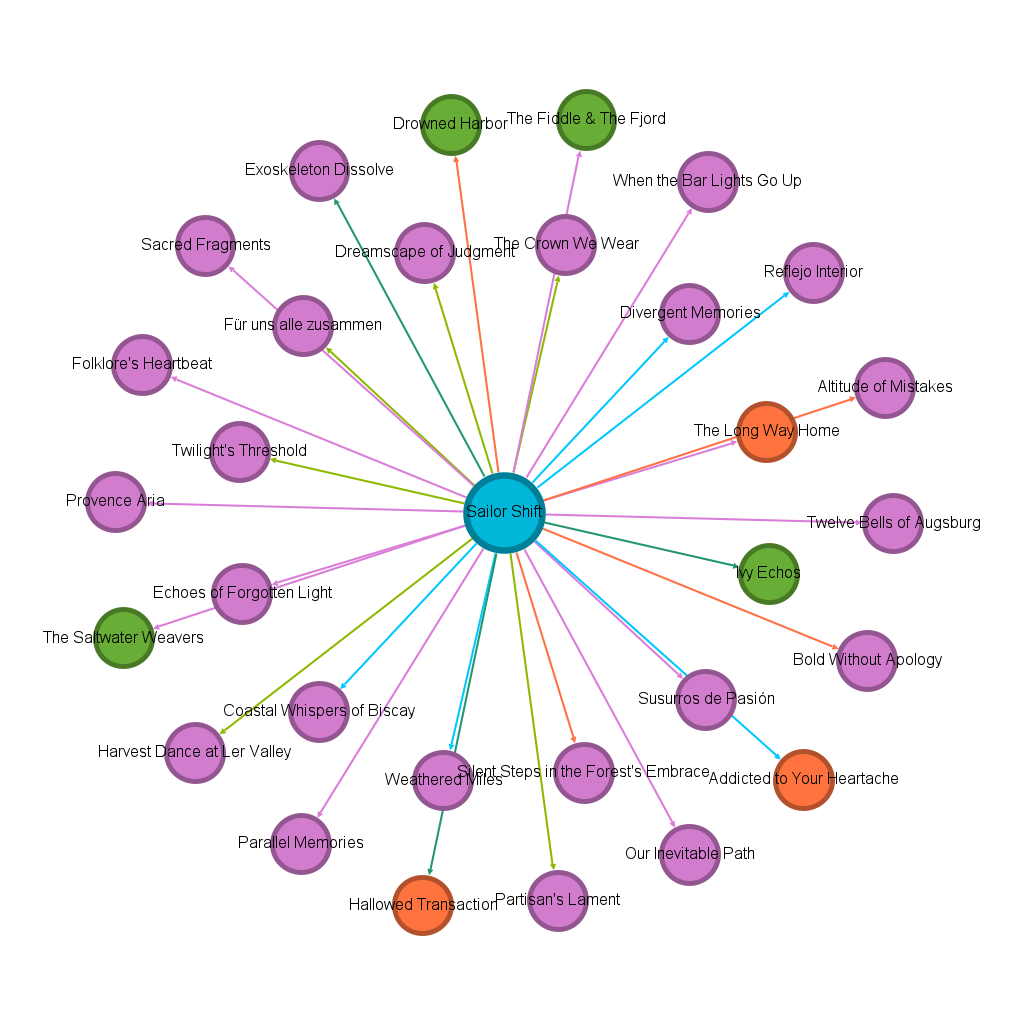

The page's visual inventory and layout, read from the dashboard file:
{"tool":"tableau","page":{"name":"Sailor Shift intro","canvas":[1000,1000],"units":"permille","ordinal":5},"visuals":[{"type":"worksheet","title":"01_Sailor_Career_Trajectory","mark":"Circle","rows":["genre"],"cols":["release_year"],"box":[4.8,9.2,990.3,981.6]}]}

Visuals, with their boxes on the dashboard's canvas, which has no fixed pixel size, in thousandths of its width and height (x1, y1, x2, y2). These are canvas units, not pixel positions in the 1024x1024 screenshot, which may show the page scaled, cropped or inside an application window:
"01_Sailor_Career_Trajectory" worksheet (Circle marks): bbox=[5, 9, 995, 991]
